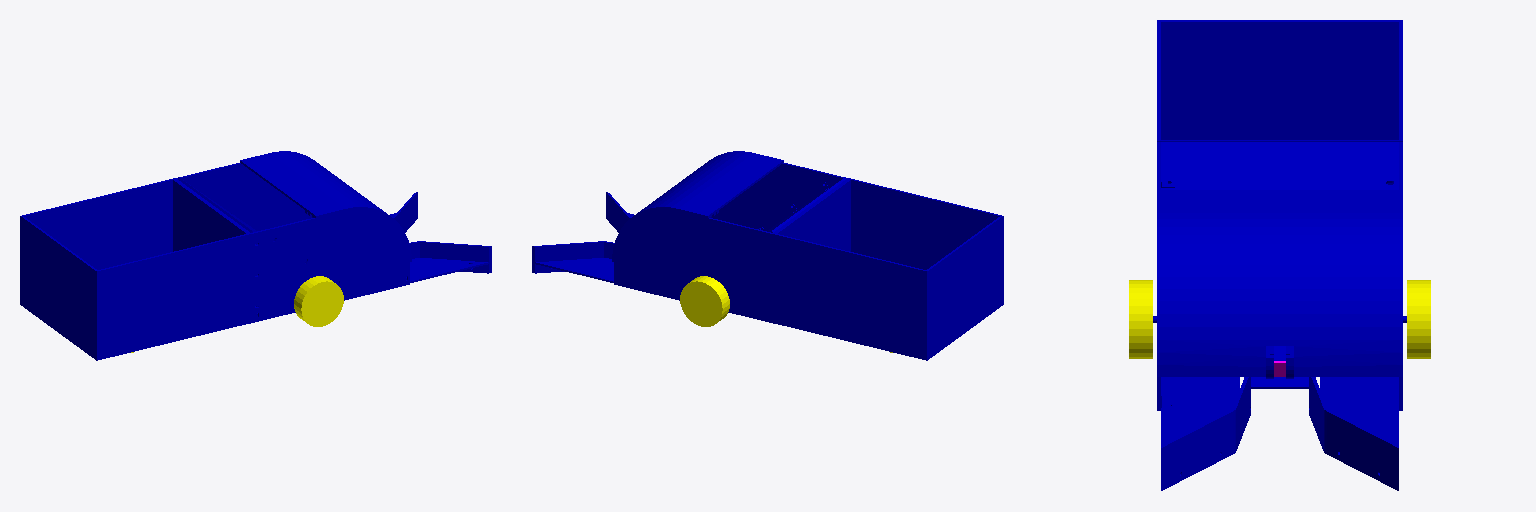
The robot description file, URDF, robot "TRR":
<!-- ======================================== Author: [author] ========================================  -->

<!-- ================================== Tennis ball Retrieval Robot =================================== -->
<robot name="TRR">

<!-- ============================================= Colors ============================================= -->
  <!-- Orange-->
  <material name="orange">
    <color rgba="1.0 0.5 0.0 1.0"/>
  </material>

  <!-- Blue--> 
  <material name="blue">
    <color rgba="0 0 0.8 1"/>
  </material>

  <!-- Yellow-->
  <material name="yellow">
    <color rgba="1 1 0 1"/>
  </material>

  <!-- Purple-->
  <material name="purple">
    <color rgba="1 0 1 1"/>
  </material>


<!-- ============================================= Components ============================================ -->
  <!-- Base-->
  <link name="base_link">
  </link>

  <!-- Frame-->
  <link name="frame_link">
    <visual>
      <material name="blue"/>
      <geometry>
        <mesh filename="package://my_robot/meshes/base3.stl" scale="0.001 0.001 0.001"/>
      </geometry>
      <origin xyz="0 0 0" rpy="0 0.0 0"/>
    </visual>

    <collision>
      <geometry>
        <mesh filename="package://my_robot/meshes/base3.stl" scale="0.001 0.001 0.001"/>
      </geometry>
      <origin xyz="0 0 0" rpy="0 0.0 0"/>
    </collision>

    <inertial>
      <mass value="20"/>
      <inertia ixx="2" ixy="0.0" ixz="0.0" iyy="2" iyz="0.0" izz="2"/>
      <origin xyz="0.125 0 0" rpy="0.0 0.0 0"/>
    </inertial>
  </link>
  
  <!-- Base => Frame -->
  <joint name="frame_joint" type="fixed">
    <parent link="base_link"/>
    <child link="frame_link"/>
    <origin xyz="-0.15 0 0" rpy="0 0.0 0.0"/>
  </joint>

  <!-- Left active wheel-->
  <link name="left_active_wheel_link">
    <visual>
      <material name="yellow"/>
      <geometry>
        <cylinder radius="0.05" length="0.03"/>
      </geometry>
    </visual>

    <collision>
      <geometry>
        <cylinder radius="0.05" length="0.03"/>
      </geometry>
    </collision>

    <inertial>
        <mass value="0.18"/>
        <inertia ixx="0.1" ixy="0.0" ixz="0.0" iyy="0.1" iyz="0.0" izz="0.1"/>    
    </inertial>
  </link>

  <!-- Base => Left active wheel -->
  <joint name="left_active_wheel_joint" type="continuous">
    <parent link="base_link"/> 
    <child link="left_active_wheel_link"/>
    <origin xyz="0 0.175 0.0225" rpy="1.57075 0.0 0.0"/>
    <axis xyz="0 0 1"/>
  </joint>

  <!-- Right active wheel-->
  <link name="right_active_wheel_link">
    <visual>
      <material name="yellow"/>
      <geometry>
        <cylinder radius="0.05" length="0.03"/>
      </geometry>
    </visual>

    <collision>
      <geometry>
        <cylinder radius="0.05" length="0.03"/>
      </geometry>
    </collision>

    <inertial>
        <mass value="0.18"/>
        <inertia ixx="0.1" ixy="0.0" ixz="0.0" iyy="0.1" iyz="0.0" izz="0.1"/>
    </inertial>
  </link>

  <!-- Base => Right active wheel -->
  <joint name="right_active_wheel_joint" type="continuous">
    <parent link="base_link"/> 
    <child link="right_active_wheel_link"/>
    <origin xyz="0 -0.175 0.0225" rpy="1.57075 0.0 0.0"/>
    <axis xyz="0 0 1"/>
  </joint>

 <!-- Base left caster wheel -->
  <link name="base_left_caster_wheel_link">
    <visual>
      <geometry>
        <box size="0.02 0.02 0.016"/>
      </geometry>
      <material name="orange"/>
    </visual>

    <inertial>
        <mass value="0.1"/>
        <inertia ixx="0.1" ixy="0" ixz="0" iyy="0.1" iyz="0" izz="0.1"/>
    </inertial>
    
    <collision>
      <geometry>
        <box size="0.02 0.02 0.016"/>
      </geometry>
    </collision>
  </link>

  <!-- Base => Base left caster wheel -->
  <joint name="base_left_caster_wheel_joint" type="continuous">
    <parent link="base_link"/>
    <child link="base_left_caster_wheel_link"/>
    <origin xyz="-0.4 0.1 -0.008" rpy="0 0.0 0.0"/>
    <axis xyz="0.0 0.0 1.0"/>
  </joint>

 <!-- Left caster wheel -->
  <link name="left_caster_wheel_link">
    <visual>
      <geometry>
        <cylinder radius="0.0125" length="0.015"/>
      </geometry>
      <material name="yellow"/>
    </visual>

    <inertial>
        <mass value="0.1"/>
        <inertia ixx="0.1" ixy="0" ixz="0" iyy="0.1" iyz="0" izz="0.1"/>
    </inertial>
    
    <collision>
      <geometry>
        <cylinder radius="0.0125" length="0.015"/>
      </geometry>
    </collision>
  </link>

  <!-- Base left caster wheel => Left caster wheel -->
  <joint name="left_caster_wheel_joint" type="continuous">
    <parent link="base_left_caster_wheel_link"/>
    <child link="left_caster_wheel_link"/>
    <origin xyz="0.0 0.0 -0.007" rpy="1.57075 0.0 0.0"/>
    <axis xyz="0.0 0.0 1.0"/>
  </joint>

 <!-- Base right caster wheel -->
  <link name="base_right_caster_wheel_link">
    <visual>
      <geometry>
        <box size="0.02 0.02 0.016"/>
      </geometry>
      <material name="orange"/>
    </visual>

    <inertial>
        <mass value="0.1"/>
        <inertia ixx="0.1" ixy="0" ixz="0" iyy="0.1" iyz="0" izz="0.1"/>
    </inertial>
    
    <collision>
      <geometry>
        <box size="0.02 0.02 0.016"/>
      </geometry>
    </collision>
  </link>

  <!-- Base => Base right caster wheel -->
  <joint name="base_right_caster_wheel_joint" type="continuous">
    <parent link="base_link"/>
    <child link="base_right_caster_wheel_link"/>
    <origin xyz="-0.4 -0.1 -0.008" rpy="0 0.0 0.0"/>
    <axis xyz="0.0 0.0 1.0"/>
  </joint>

 <!-- Right caster wheel -->
  <link name="right_caster_wheel_link">
    <visual>
      <geometry>
        <cylinder radius="0.0125" length="0.015"/>
      </geometry>
      <material name="yellow"/>
    </visual>

    <inertial>
        <mass value="0.1"/>
        <inertia ixx="0.1" ixy="0" ixz="0" iyy="0.1" iyz="0" izz="0.1"/>
    </inertial>

    <collision>
      <geometry>
        <cylinder radius="0.0125" length="0.015"/>
      </geometry>
    </collision>
  </link>

  <!-- Base right caster wheel => Right caster wheel -->
  <joint name="right_caster_wheel_joint" type="continuous">
    <parent link="base_right_caster_wheel_link"/>
    <child link="right_caster_wheel_link"/>
    <origin xyz="-0.0 0.0 -0.007"  rpy="1.57075 0.0 0.0"/>
    <axis xyz="0.0 0.0 1.0"/>
  </joint>

  <!-- Left shooting wheel-->
  <link name="left_shooting_wheel_link">
    <visual>
      <material name="orange"/>
      <geometry>
        <cylinder radius="0.0325" length="0.027"/>
      </geometry>
    </visual>

    <collision>
      <geometry>
        <cylinder radius="0.0325" length="0.027"/>
      </geometry>
    </collision>

    <inertial>
        <mass value="0.1"/>
        <inertia ixx="0.1" ixy="0.0" ixz="0.0" iyy="0.1" iyz="0.0" izz="0.1"/>
    </inertial>
  </link>

  <!-- Base => Left shooting wheel-->
  <joint name="left_shooting_wheel_joint" type="continuous">
    <parent link="base_link"/> 
    <child link="left_shooting_wheel_link"/>
    <origin xyz="0.165 -0.024 0.068" rpy="1.57075 0 0"/>
        <axis xyz="0 0 1"/>
  </joint>

  <!-- Right shooting wheel-->
  <link name="right_shooting_wheel_link">
    <visual>
      <material name="orange"/>
      <geometry>
        <cylinder radius="0.0325" length="0.027"/>
      </geometry>
    </visual>

    <collision>
      <geometry>
        <cylinder radius="0.0325" length="0.027"/>
      </geometry>
    </collision>

    <inertial>
        <mass value="0.1"/>
        <inertia ixx="0.1" ixy="0.0" ixz="0.0" iyy="0.1" iyz="0.0" izz="0.1"/>
    </inertial>
  </link>

  <!-- Base => Right shooting wheel-->
  <joint name="right_shooting_wheel_joint" type="continuous">
    <parent link="base_link"/> 
    <child link="right_shooting_wheel_link"/>
    <origin xyz="0.165 0.024 0.068" rpy="1.57075 0 0"/>
        <axis xyz="0 0 1"/>
  </joint>

  <!-- Camera Link -->
  <link name="camera_link">
    <visual>
      <origin rpy="0 0 0" xyz="0 0 0"/>
      <material name="purple"/>
      <geometry>
        <box size="0.003 0.03 0.03"/>
      </geometry>
    </visual>

    <collision>
      <geometry>
        <box size="0.03 0.03 0.003"/>
      </geometry>
    </collision>

    <inertial>
      <mass value="0.0024" />
      <inertia ixx="1e-6" ixy="0" ixz="0" iyy="1e-6" iyz="0" izz="1e-6" />
    </inertial>

  </link>

  <!-- Base => Camera Joint (Fixed) -->
  <joint name="camera_joint" type="fixed">
      <parent link="base_link"/>
      <child link="camera_link"/>
      <origin xyz="0.25 0.0 0.07" rpy="0.0 0.52358 0"/>
  </joint>  

<!-- ============================================= Transmission ============================================ -->
  <!-- Right Front Wheel Transmission -->
  <transmission name="tran1">
      <type>transmission_interface/SimpleTransmission</type>
      <joint name="left_active_wheel_joint">
          <hardwareInterface>hardware_interface/EffortJointInterface</hardwareInterface>
      </joint>
      <actuator name="motor1">
          <hardwareInterface>hardware_interface/EffortJointInterface</hardwareInterface>
          <mechanicalReduction>1</mechanicalReduction>
      </actuator>
  </transmission>

  <!-- Left Front Wheel Transmission -->
  <transmission name="tran2">
      <type>transmission_interface/SimpleTransmission</type>
      <joint name="right_active_wheel_joint">
          <hardwareInterface>hardware_interface/EffortJointInterface</hardwareInterface>
      </joint>
      <actuator name="motor2">
          <hardwareInterface>hardware_interface/EffortJointInterface</hardwareInterface>
          <mechanicalReduction>1</mechanicalReduction>
      </actuator>
  </transmission>

  <!-- Right Shoot Wheel Transmission -->
  <transmission name="tran3">
      <type>transmission_interface/SimpleTransmission</type>
      <joint name="left_shooting_wheel_joint">
          <hardwareInterface>hardware_interface/EffortJointInterface</hardwareInterface>
      </joint>
      <actuator name="motor3">
          <hardwareInterface>hardware_interface/EffortJointInterface</hardwareInterface>
          <mechanicalReduction>1</mechanicalReduction>
      </actuator>
  </transmission>

  <!-- Left Shoot Wheel Transmission -->
  <transmission name="tran4">
      <type>transmission_interface/SimpleTransmission</type>
      <joint name="right_shooting_wheel_joint">
          <hardwareInterface>hardware_interface/EffortJointInterface</hardwareInterface>
      </joint>
      <actuator name="motor4">
          <hardwareInterface>hardware_interface/EffortJointInterface</hardwareInterface>
          <mechanicalReduction>1</mechanicalReduction>
      </actuator>
  </transmission>

<!-- ================================================== Gazebo ====================================================== -->
  <!-- Gazebo Visual Properties -->
  <gazebo reference="frame_link">
      <material>Gazebo/Blue</material>
  </gazebo>
  <gazebo reference="left_active_wheel_link">
      <material>Gazebo/Yellow</material>
  </gazebo>
  <gazebo reference="right_active_wheel_link">
      <material>Gazebo/Yellow</material>
  </gazebo>
  <gazebo reference="base_left_caster_wheel_link">
      <material>Gazebo/Orange</material>
  </gazebo>
  <gazebo reference="left_caster_wheel_link">
      <material>Gazebo/Yellow</material>
  </gazebo>
  <gazebo reference="base_right_caster_wheel_link">
      <material>Gazebo/Orange</material>
  </gazebo>
  <gazebo reference="right_caster_wheel_link">
      <material>Gazebo/Yellow</material>
  </gazebo>
  <gazebo reference="left_shooting_wheel_link">
      <material>Gazebo/Orange</material>
  </gazebo>
  <gazebo reference="right_shooting_wheel_link">
      <material>Gazebo/Orange</material>
  </gazebo>

  <!-- Camera Sensor -->
  <gazebo reference="camera_link">
    <material>Gazebo/Purple</material>
    <sensor type="camera" name="camera1">
      <update_rate>30.0</update_rate>
      <camera name="head">
        <horizontal_fov>1.3962634</horizontal_fov>
        <image>
          <width>640</width>
          <height>480</height>
          <format>R8G8B8</format>
        </image>
        <clip>
          <near>0.02</near>
          <far>300</far>
        </clip>
        <noise>
          <type>gaussian</type>
          <mean>0.0</mean>
          <stddev>0.007</stddev>
        </noise>
      </camera>
      <plugin name="camera_controller" filename="libgazebo_ros_camera.so">
        <alwaysOn>true</alwaysOn>
        <updateRate>0.0</updateRate>
        <cameraName>my_robot/camera1</cameraName>
        <imageTopicName>image_raw</imageTopicName>
        <cameraInfoTopicName>camera_info</cameraInfoTopicName>
        <frameName>camera_link</frameName>
        <hackBaseline>0.07</hackBaseline>
        <distortionK1>0.0</distortionK1>
        <distortionK2>0.0</distortionK2>
        <distortionK3>0.0</distortionK3>
        <distortionT1>0.0</distortionT1>
        <distortionT2>0.0</distortionT2>
      </plugin>
    </sensor>
  </gazebo>

  <!-- Gazebo ROS Control Plugin -->
  <gazebo>
      <plugin name="gazebo_ros_control" filename="libgazebo_ros_control.so">
          <robotNamespace>/my_TRR</robotNamespace>
      </plugin>
  </gazebo>

</robot>

--- Facts derived from the render (not from the file) ---
Views: 3 orthographic renders of the robot side by side, from view 1: azimuth 30°, elevation 25°; view 2: azimuth 150°, elevation 25°; view 3: azimuth 270°, elevation 25°.
Robot: TRR — 11 links, 10 joints (8 continuous, 2 fixed); root link base_link; default pose: all joints at 0.
Links seen in each view (by area): view 1: frame_link, right_active_wheel_link; view 2: frame_link, left_active_wheel_link; view 3: frame_link, left_active_wheel_link, right_active_wheel_link.
Link boxes in pixels (x1,y1,x2,y2): frame_link: (20, 151, 491, 360); right_active_wheel_link: (294, 276, 343, 326); frame_link: (532, 151, 1003, 360); left_active_wheel_link: (680, 276, 729, 326); frame_link: (1153, 20, 1406, 490); left_active_wheel_link: (1407, 280, 1430, 358); right_active_wheel_link: (1129, 280, 1152, 358).
Bounding box of the posed robot: 0.9294 × 0.38 × 0.2325 m (x, y, z).
Meshes: 1 distinct files referenced, 1 mesh visuals loaded (1 binary STL).